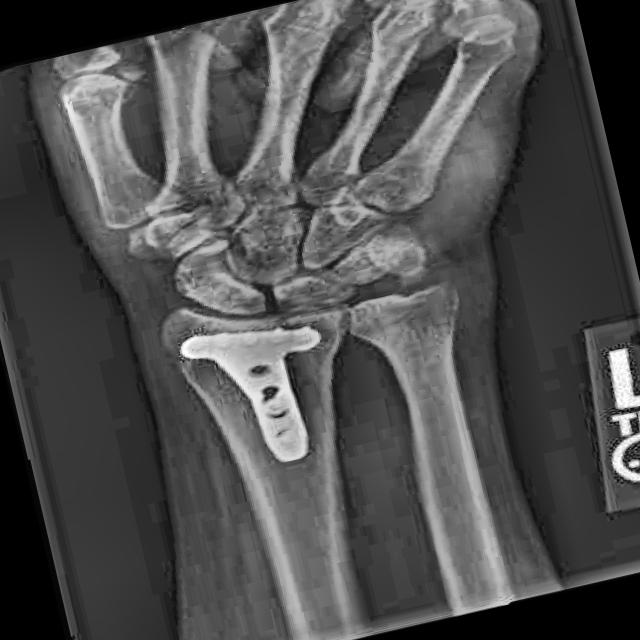fingers positive: (107, 163, 268, 279), (341, 285, 479, 360), (153, 329, 278, 387)
